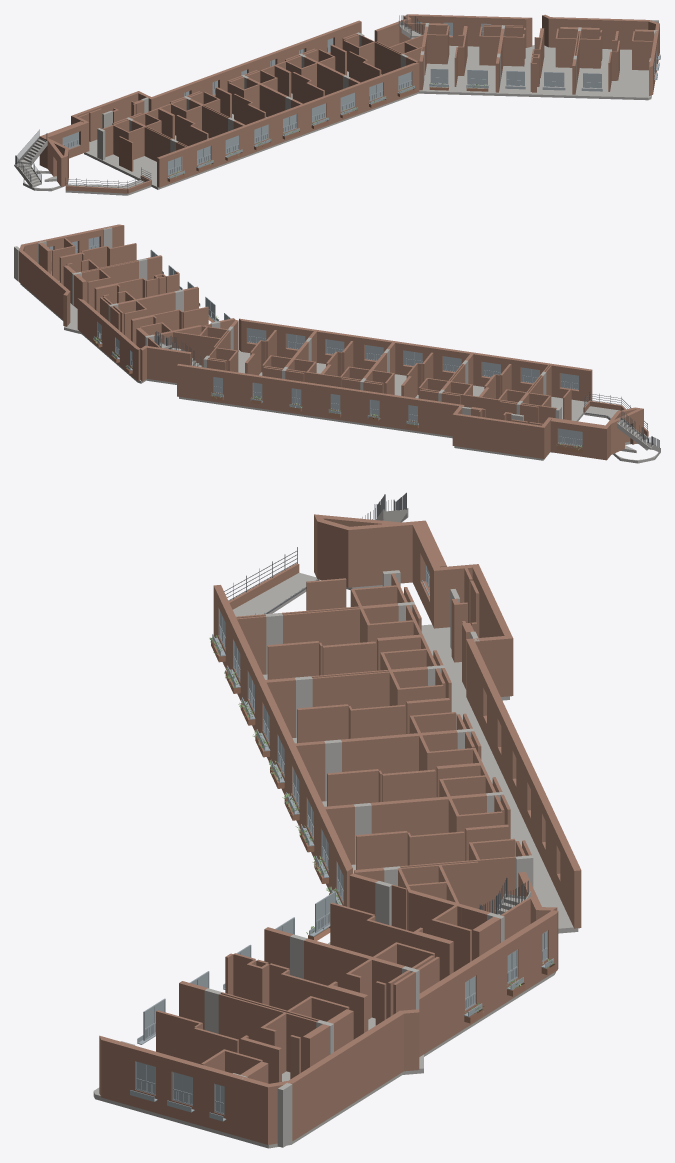
Rendered from revit_nivel_4.glb.
3 renders of one model, top to bottom at view 1: azimuth 30°, elevation 25°; view 2: azimuth 150°, elevation 25°; view 3: azimuth 270°, elevation 25°, orthographic. The views are drawn at different scales.
Visible parts, largest first — view 1: Revit_PISO 5; view 2: Revit_PISO 5; view 3: Revit_PISO 5.
Boxes of the visible parts, x1=… form: Revit_PISO 5: x1=14, y1=14, x2=660, y2=195; Revit_PISO 5: x1=14, y1=224, x2=660, y2=463; Revit_PISO 5: x1=93, y1=492, x2=581, y2=1148.
Size of the model in its own units: 67.19 by 4.46 by 23.01.
